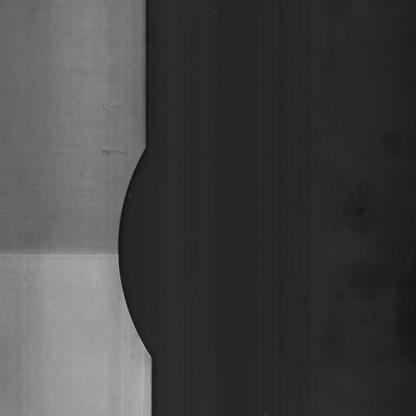crescent_gap: (113, 115, 177, 373)
welding_line: (0, 235, 131, 282)
